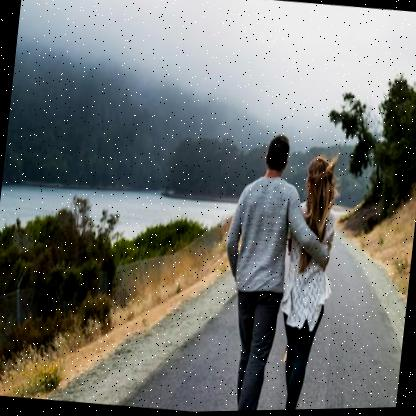person: (208, 126, 305, 411), (270, 141, 353, 410)
